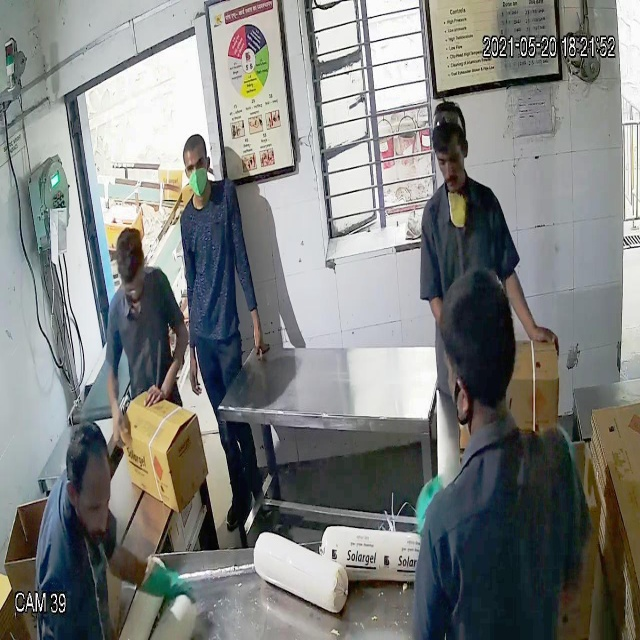Sin_gafas: (430, 141, 467, 174), (180, 154, 210, 177)
